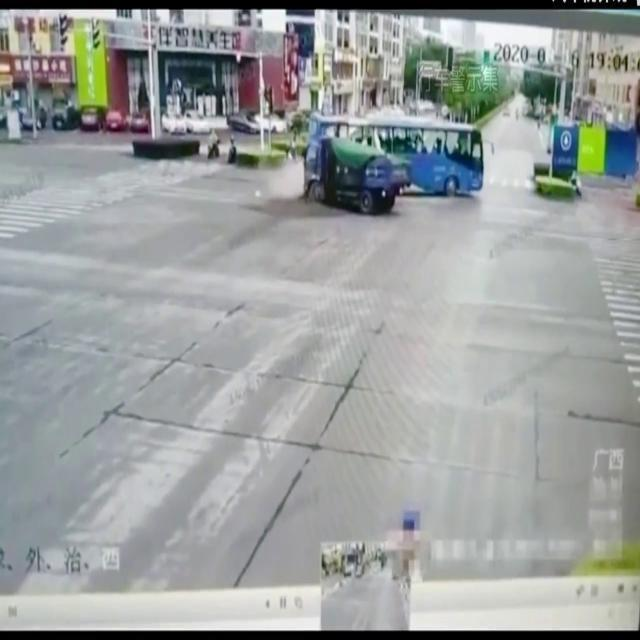accident: (302, 110, 486, 220)
non-accident: (1, 92, 300, 138), (205, 126, 239, 164)
